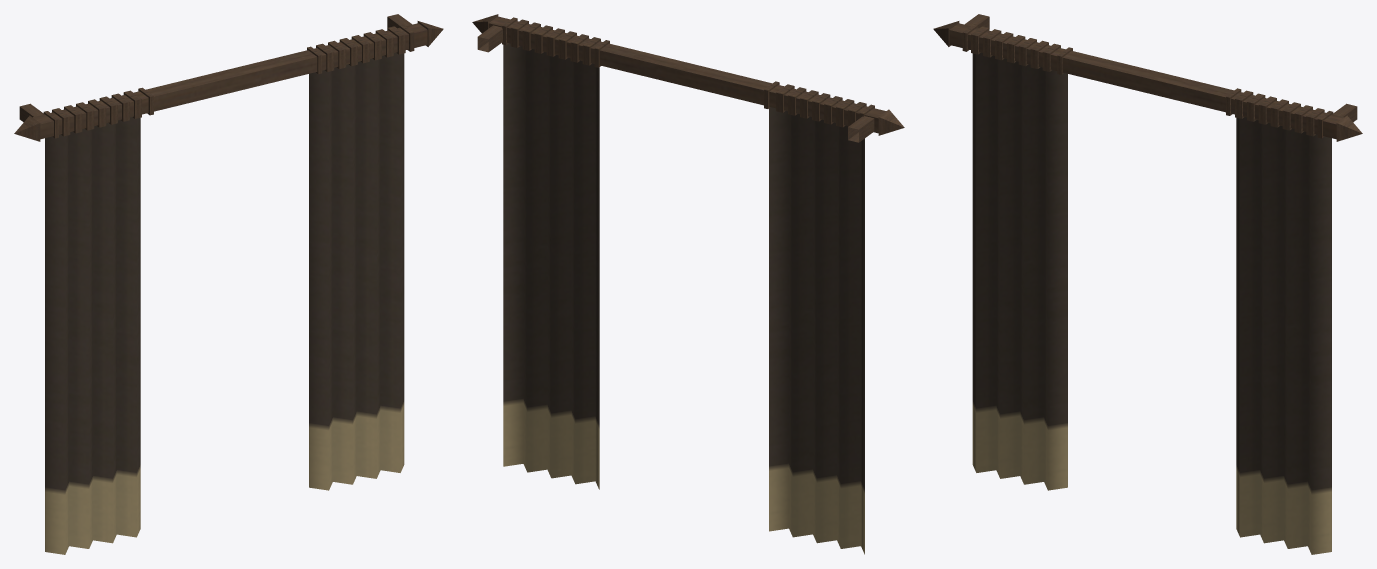
The model's file is Curtain_2A.fbx.
The picture shows the model from 3 angles, left to right: view 1: azimuth 30°, elevation 25°; view 2: azimuth 150°, elevation 25°; view 3: azimuth 330°, elevation 25°; orthographic projection.
Parts seen in each view (by area): view 1: polySurface784; view 2: polySurface784; view 3: polySurface784.
Part boxes in pixels (<box>): polySurface784: <box>14,14,443,554</box>; polySurface784: <box>472,14,904,554</box>; polySurface784: <box>933,14,1362,554</box>.
Bounding box in the file's own units: 3.16 × 3.08 × 0.3278.
